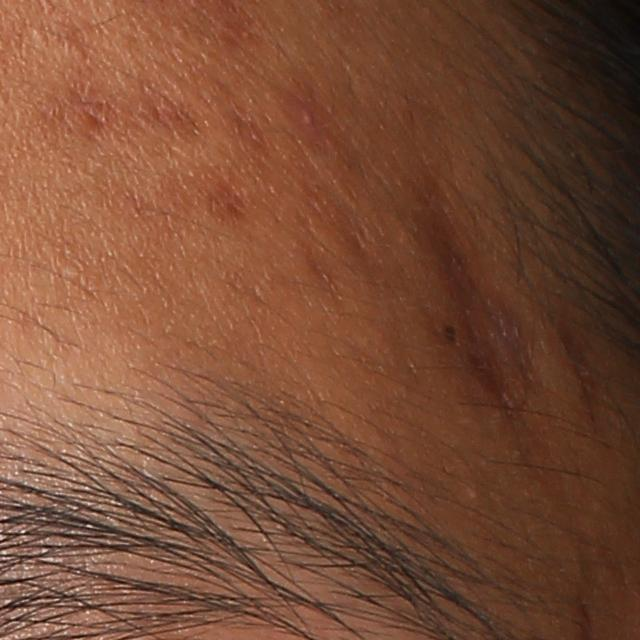comedo: (466, 485, 481, 501)
